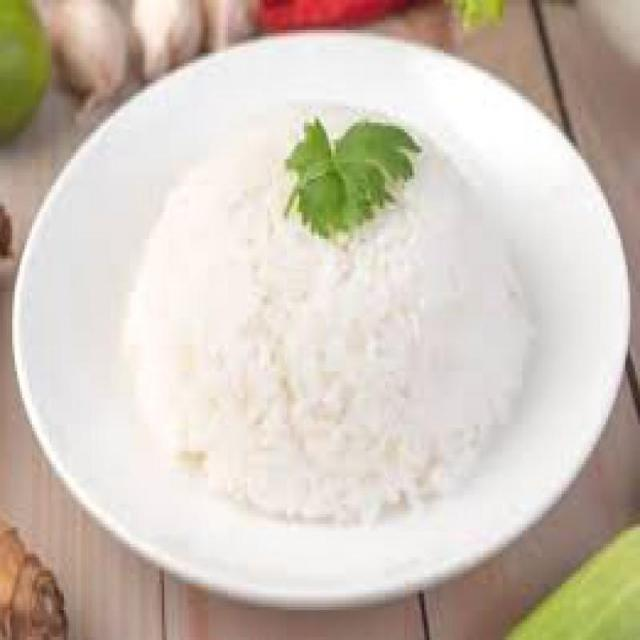rice: (127, 102, 523, 529)
